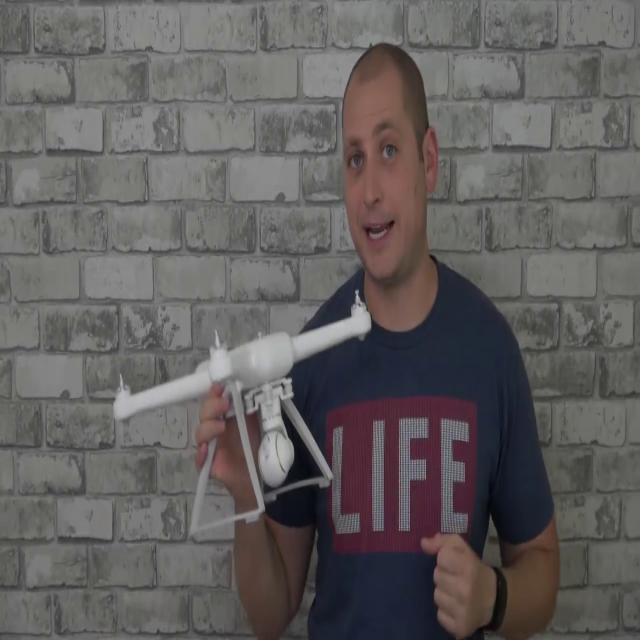drone: (107, 286, 381, 441)
